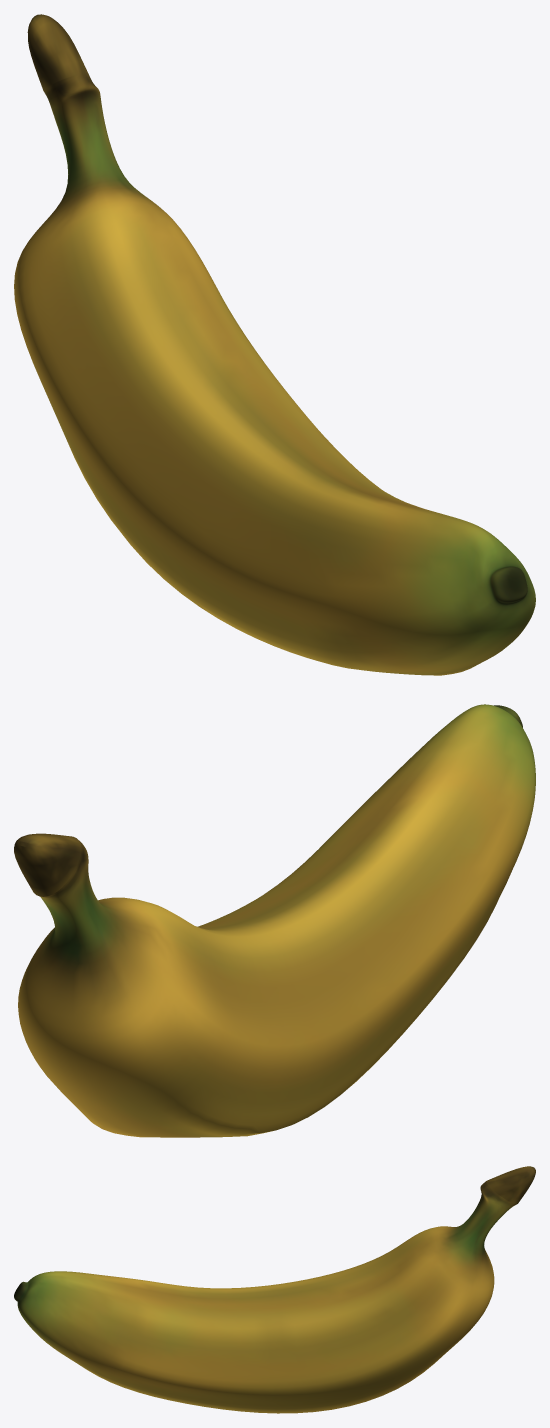
The model's file is banana.fbx.
3 views of the same model, one above another, from view 1: azimuth 30°, elevation 25°; view 2: azimuth 150°, elevation 25°; view 3: azimuth 270°, elevation 25° (orthographic). The views are drawn at different scales.
Visible parts, largest first — view 1: Banana; view 2: Banana; view 3: Banana.
Part boxes in pixels (x1,y1,x2,y2): Banana: (14,14,535,675); Banana: (14,704,535,1137); Banana: (14,1166,535,1413).
Bounding box in the file's own units: 251 × 553 × 1106.
